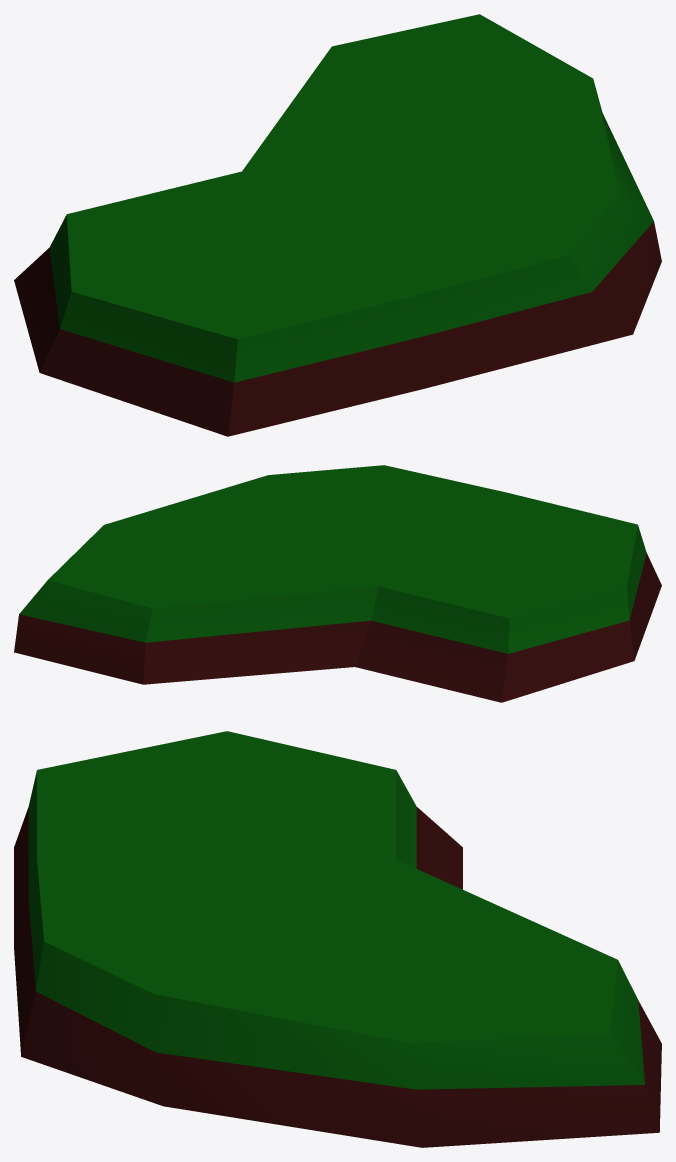
File: Land 3.FBX
The picture shows the model from 3 angles, top to bottom: view 1: azimuth 30°, elevation 25°; view 2: azimuth 150°, elevation 25°; view 3: azimuth 270°, elevation 25°; orthographic projection. The views are drawn at different scales.
Visible parts, largest first — view 1: Box001; view 2: Box001; view 3: Box001.
Part boxes in pixels (x1,y1,x2,y2): Box001: (14, 14, 661, 436); Box001: (14, 465, 661, 702); Box001: (14, 731, 661, 1147).
Bounding box in the file's own units: 7259 × 881 × 5860.
